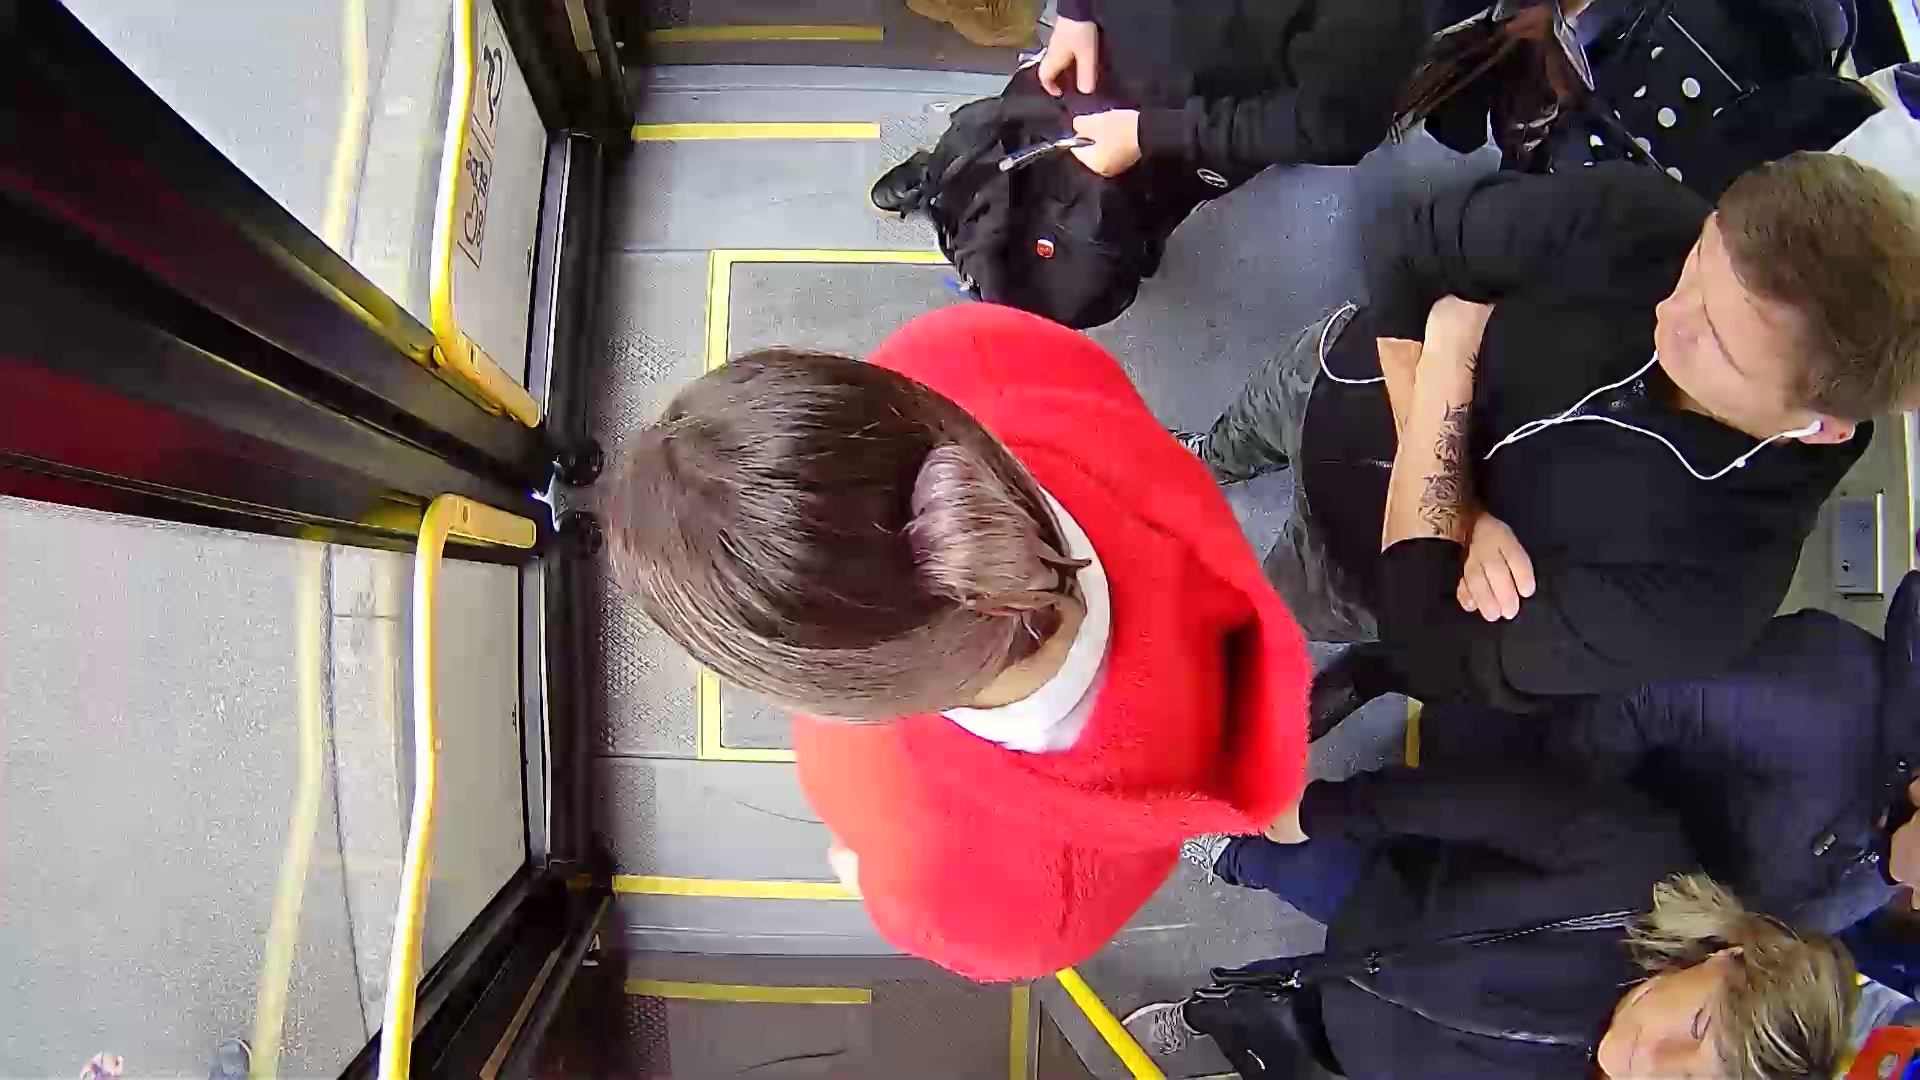person: (554, 301, 1309, 951), (1355, 126, 1909, 691)
